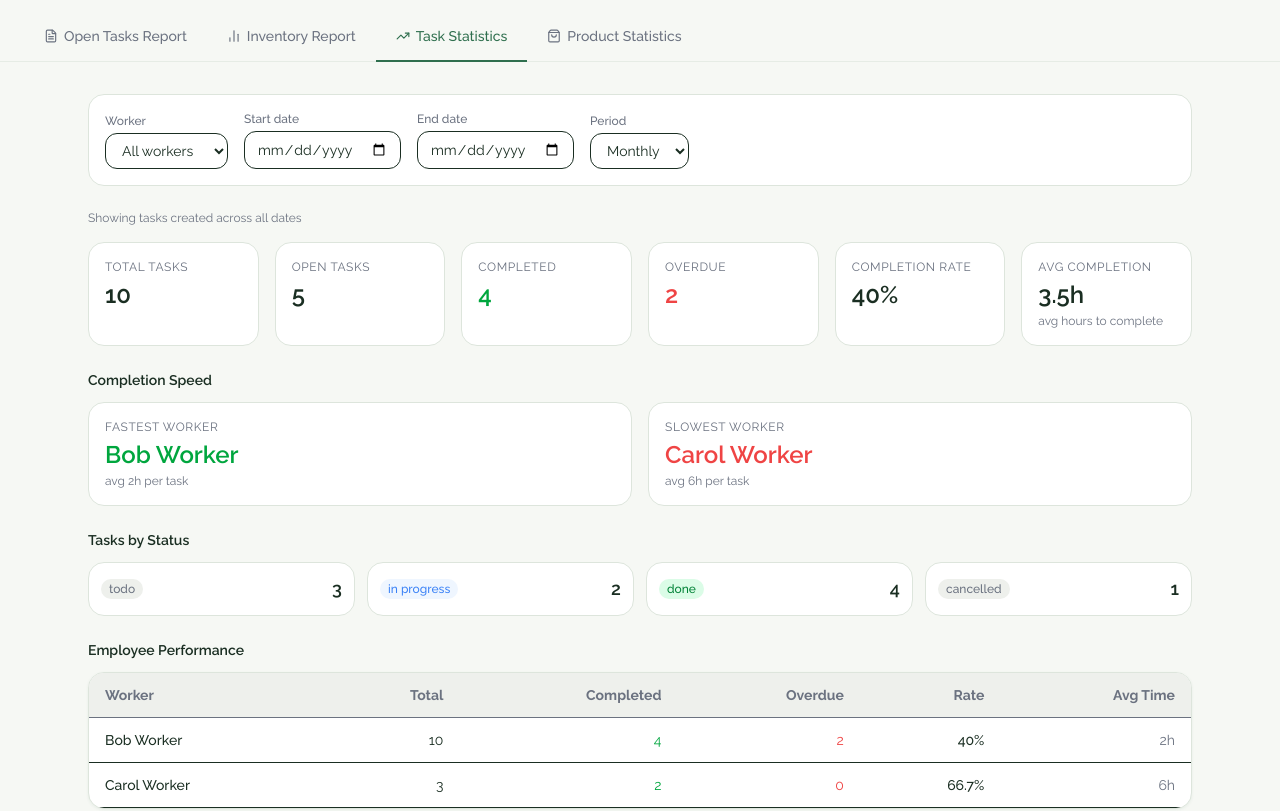
Test: Task Statistics Report tab › hides the speed comparison when a specific worker is selected
expect the element with test id "speed-cards" is shown: met, box [88,402,1192,506]
// Selecting a single worker hides the fastest-vs-slowest comparison
Select "Bob Worker" in the dropdown with test id "filter-worker" at (166, 151), box [105,133,228,169]
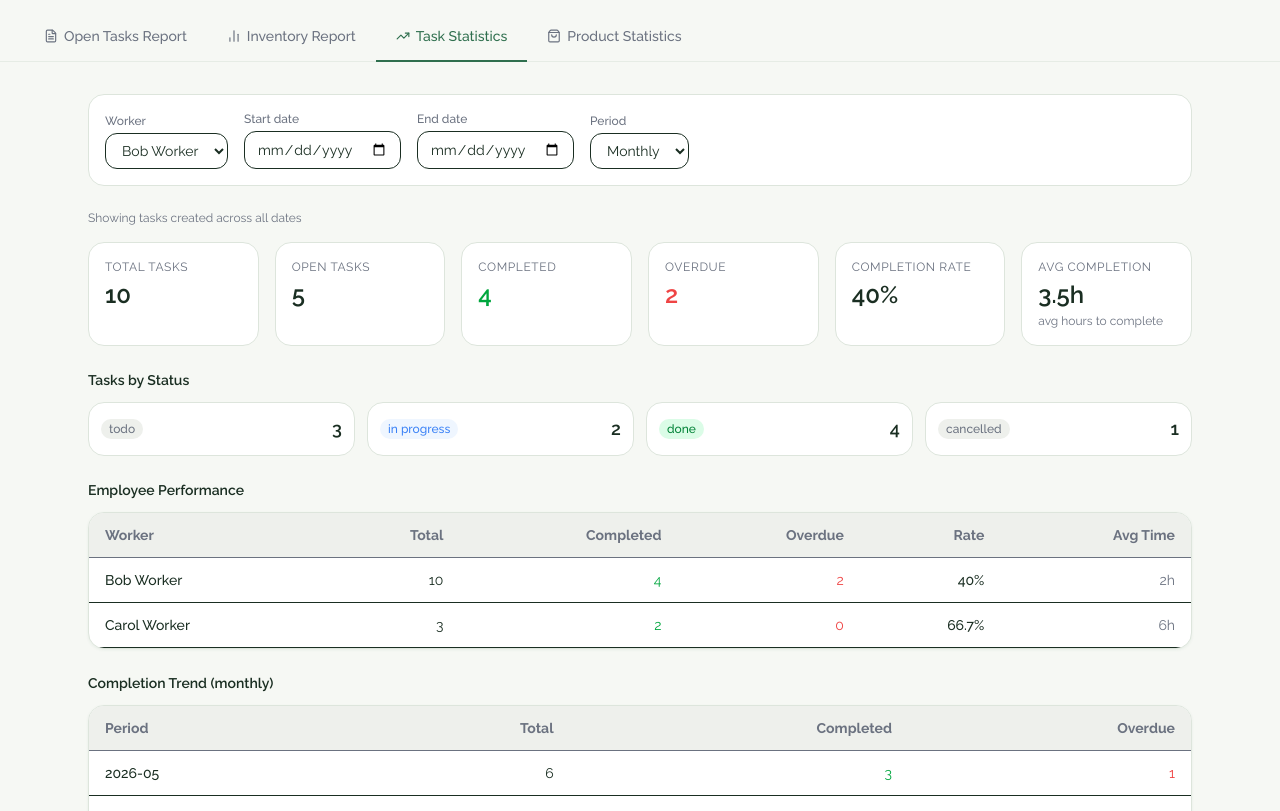
expect the element with test id "speed-cards" is gone: met
